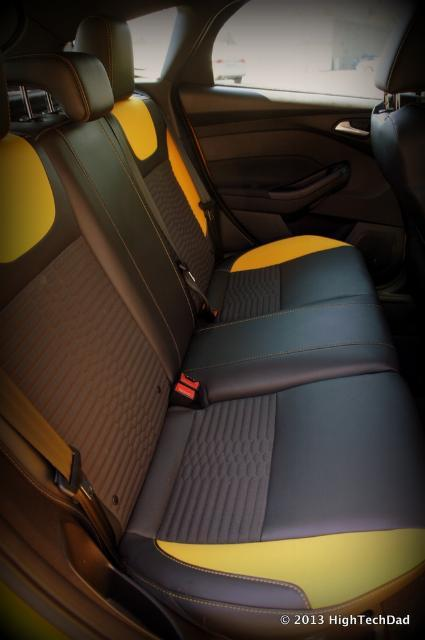Seatbelt: (0, 368, 116, 550), (164, 256, 216, 314)
